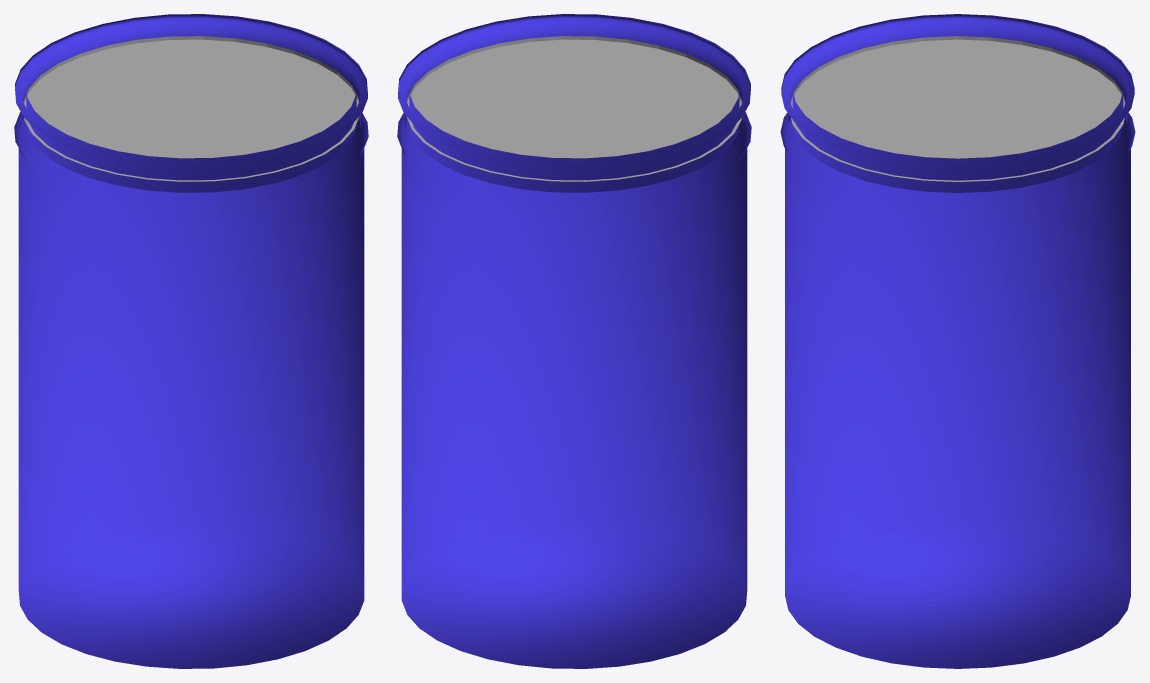
The model's file is drum.glb.
3 views of the same model, side by side, from view 1: azimuth 30°, elevation 25°; view 2: azimuth 150°, elevation 25°; view 3: azimuth 270°, elevation 25° (orthographic).
Parts seen in each view (by area): view 1: Circle, Circle.001; view 2: Circle, Circle.001; view 3: Circle, Circle.001.
Part boxes in pixels (bbox=[...]): Circle: bbox=[14, 14, 368, 668]; Circle.001: bbox=[23, 36, 358, 181]; Circle: bbox=[397, 14, 751, 668]; Circle.001: bbox=[407, 36, 742, 181]; Circle: bbox=[780, 14, 1135, 668]; Circle.001: bbox=[790, 36, 1125, 181].
Size of the model in its own units: 2.05 by 3.24 by 2.05.
